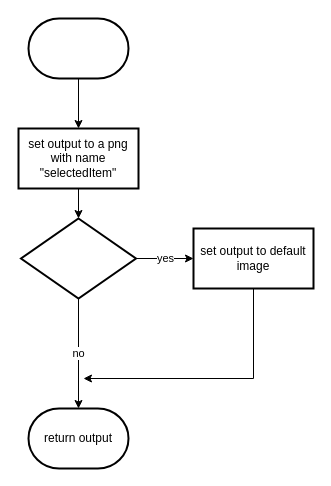
The diagram is 331 pixels wide and 486 high, and some of its shapes have lost their labels. Here are the shapes that lost their labels. From the top down, the centre of each, then its label:
point 78,48: start
point 78,258: Error?
